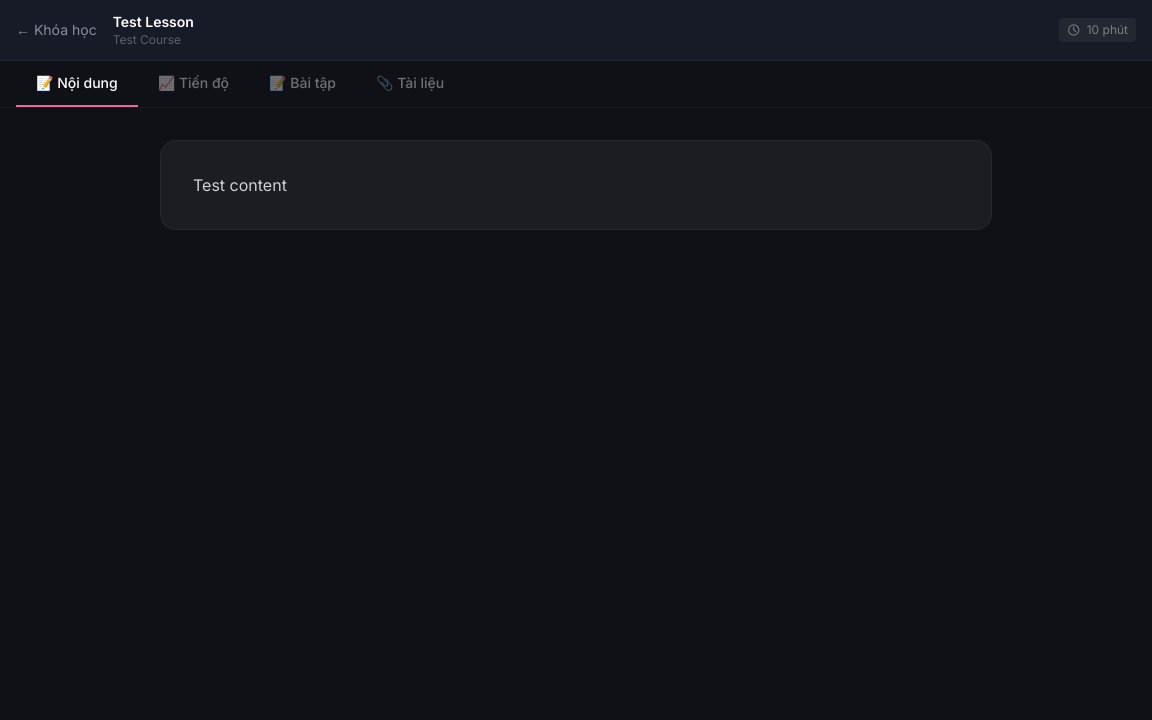
Test: LessonLearningPage.vue › updates state when lesson is marked as completed
Note: Switch to progress tab
Click the button "📈 Tiến độ" at (193, 84), box [138,61,249,107]
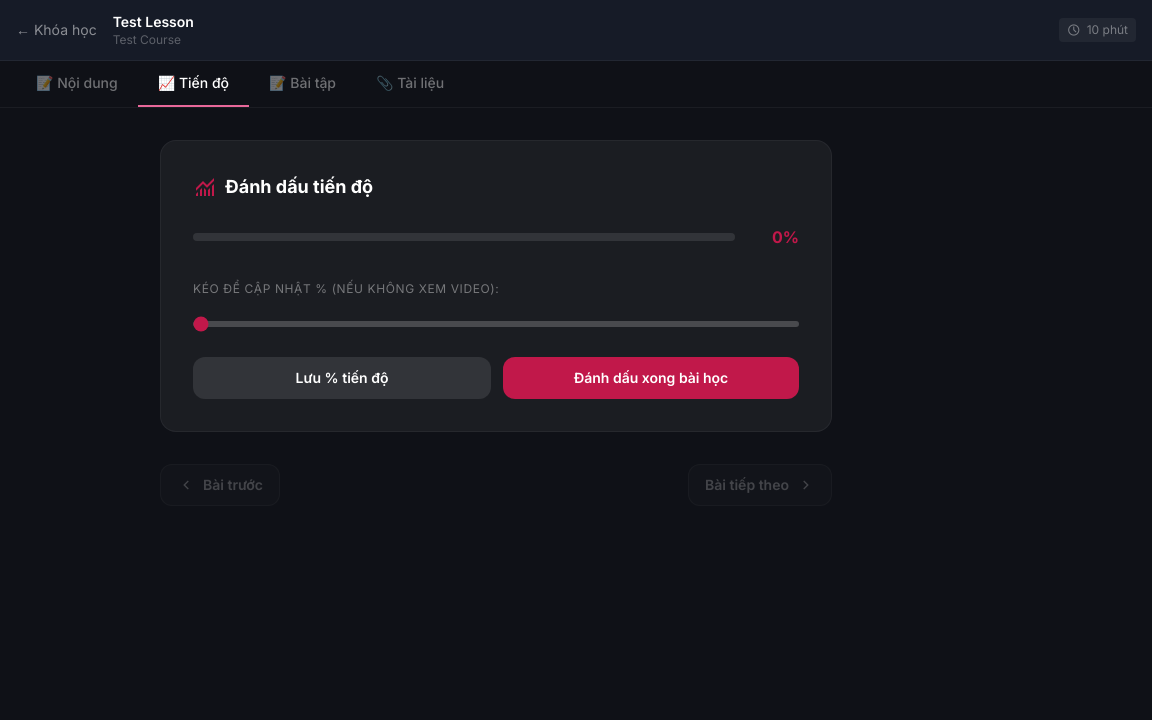
Note: Find and click complete button
Click the button "Đánh dấu xong bài học" at (651, 378), box [503,357,799,399]
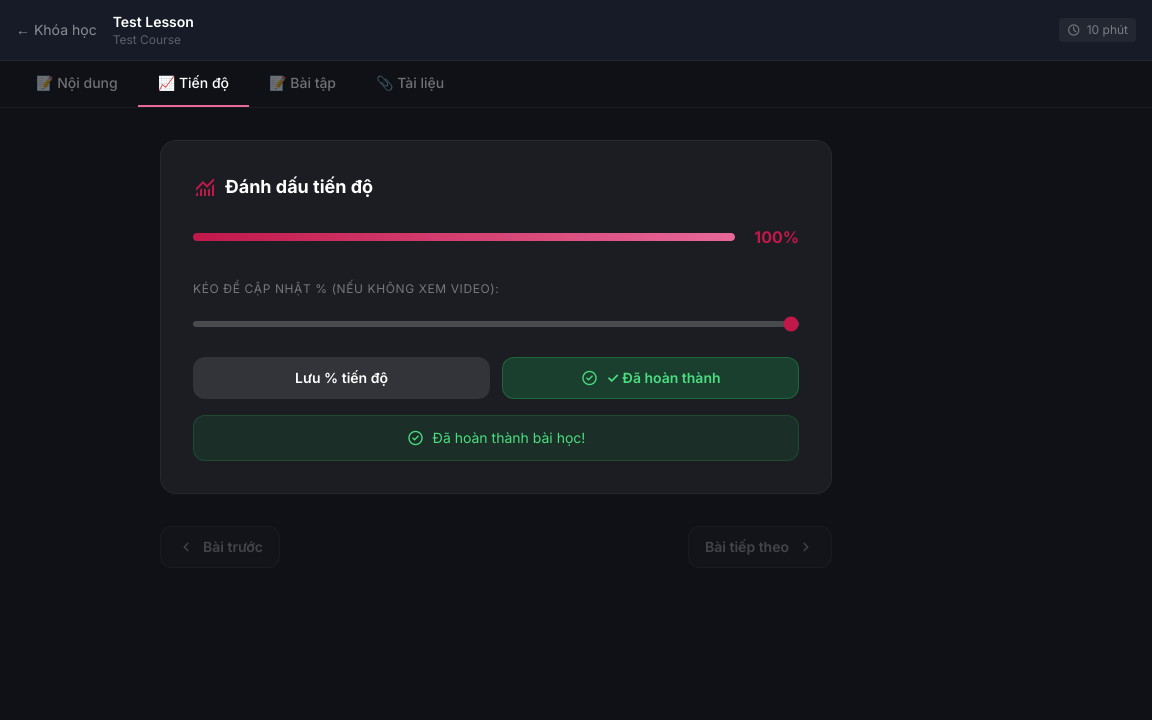
Result: the button "✓ Đã hoàn thành" is disabled at [502,357,799,399]
